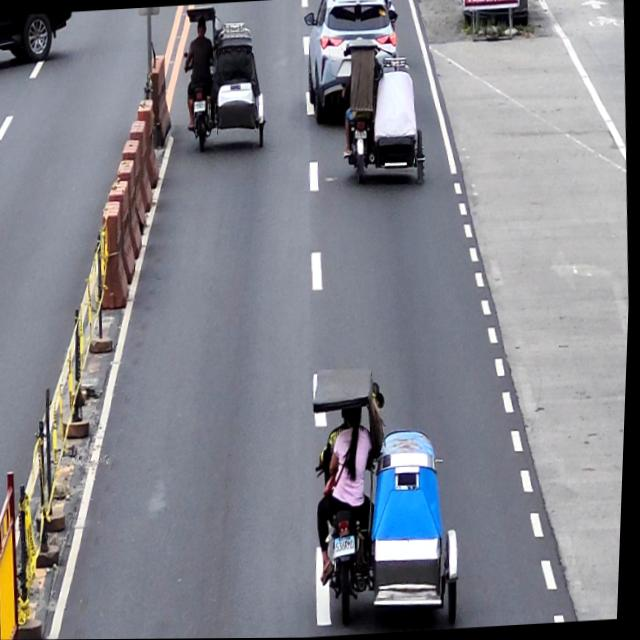Car: (300, 0, 404, 128)
License-Plate: (336, 536, 361, 558), (356, 130, 368, 142), (194, 102, 207, 113)
Tricycle: (307, 362, 470, 638), (339, 35, 434, 191), (180, 7, 273, 156)
